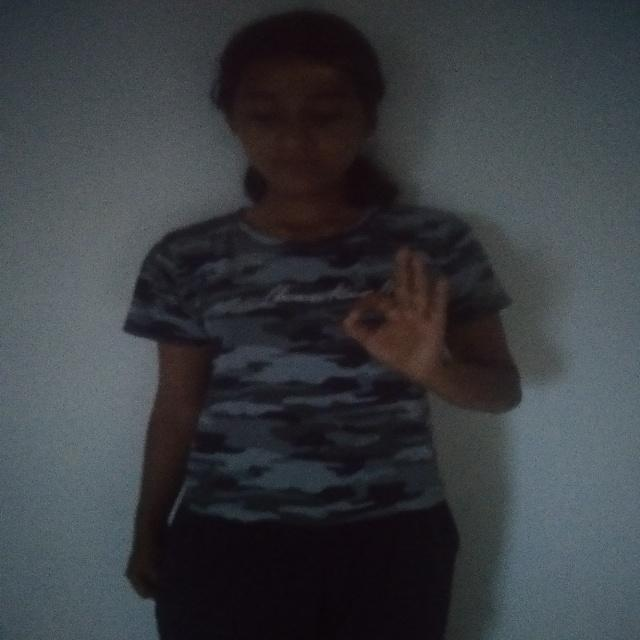Okay: (343, 243, 468, 396)
